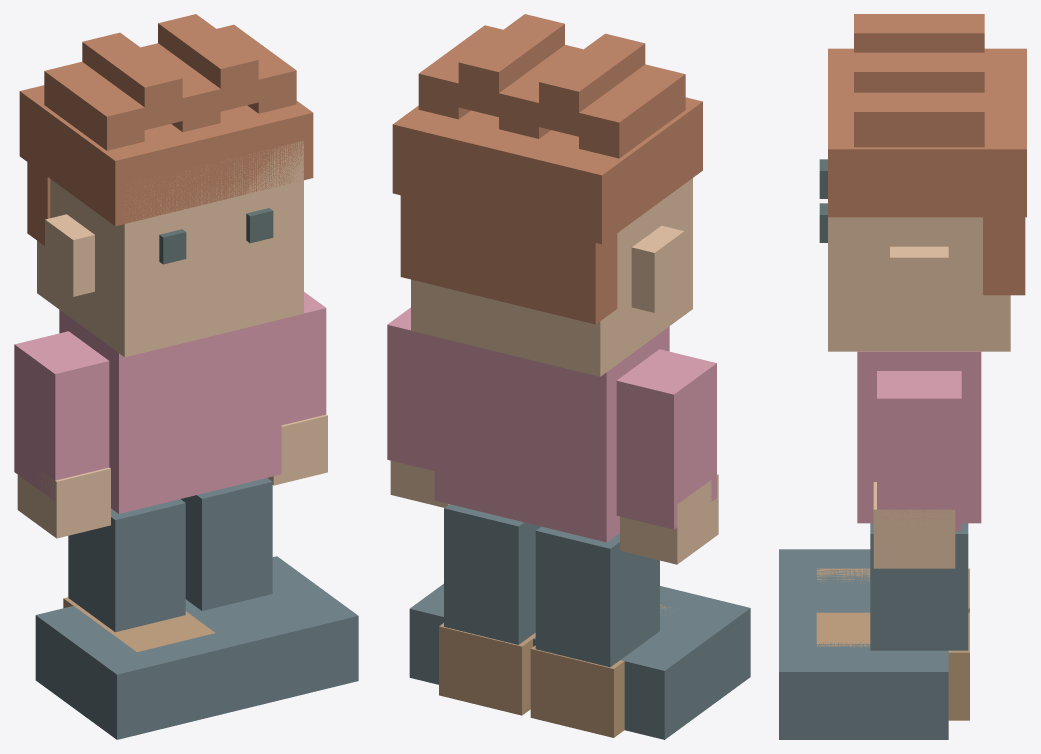
Rendered from character-0.glb.
3 views of the same model, side by side, from view 1: azimuth 30°, elevation 25°; view 2: azimuth 150°, elevation 25°; view 3: azimuth 270°, elevation 25° (orthographic). The views are drawn at different scales.
Parts seen in each view (by area): view 1: body_hair0.001, body_skin0.001, sit_pants.004, body_shirt0.001, stand_pants.004, arms_shirt0.001, arms_skin0.001, stand_wood.004, body_black.004; view 2: body_hair0.001, body_shirt0.001, stand_pants.004, arms_shirt0.001, body_skin0.001, sit_pants.004, stand_wood.004, arms_skin0.001; view 3: body_hair0.001, sit_pants.004, body_skin0.001, arms_shirt0.001, stand_pants.004, body_shirt0.001, arms_skin0.001, stand_wood.004, body_black.004.
Boxes of the visible parts, <box> form: body_hair0.001: <box>19,14,313,245</box>; body_skin0.001: <box>37,141,303,357</box>; sit_pants.004: <box>35,556,358,739</box>; body_shirt0.001: <box>59,310,281,513</box>; stand_pants.004: <box>68,478,272,632</box>; arms_shirt0.001: <box>14,292,326,501</box>; arms_skin0.001: <box>17,414,327,538</box>; stand_wood.004: <box>63,597,214,651</box>; body_black.004: <box>159,208,273,264</box>; body_hair0.001: <box>392,14,702,324</box>; body_shirt0.001: <box>434,326,669,542</box>; stand_pants.004: <box>444,504,659,667</box>; arms_shirt0.001: <box>387,307,716,529</box>; body_skin0.001: <box>411,178,692,376</box>; sit_pants.004: <box>409,584,750,739</box>; stand_wood.004: <box>439,604,671,737</box>; arms_skin0.001: <box>390,460,718,564</box>; body_hair0.001: <box>828,14,1026,295</box>; sit_pants.004: <box>779,549,948,739</box>; body_skin0.001: <box>828,217,1010,351</box>; arms_shirt0.001: <box>877,371,961,531</box>; stand_pants.004: <box>870,523,968,650</box>; body_shirt0.001: <box>857,351,981,523</box>; arms_skin0.001: <box>873,482,955,568</box>; stand_wood.004: <box>816,568,969,720</box>; body_black.004: <box>819,159,827,242</box>.
Bounding box in the file's own units: 1 × 2.15 × 0.76.
